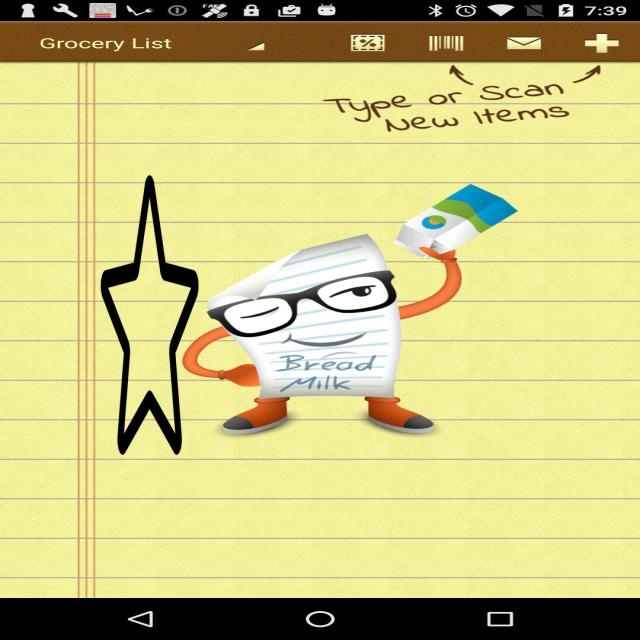forced continuity: (100, 169, 198, 461)
